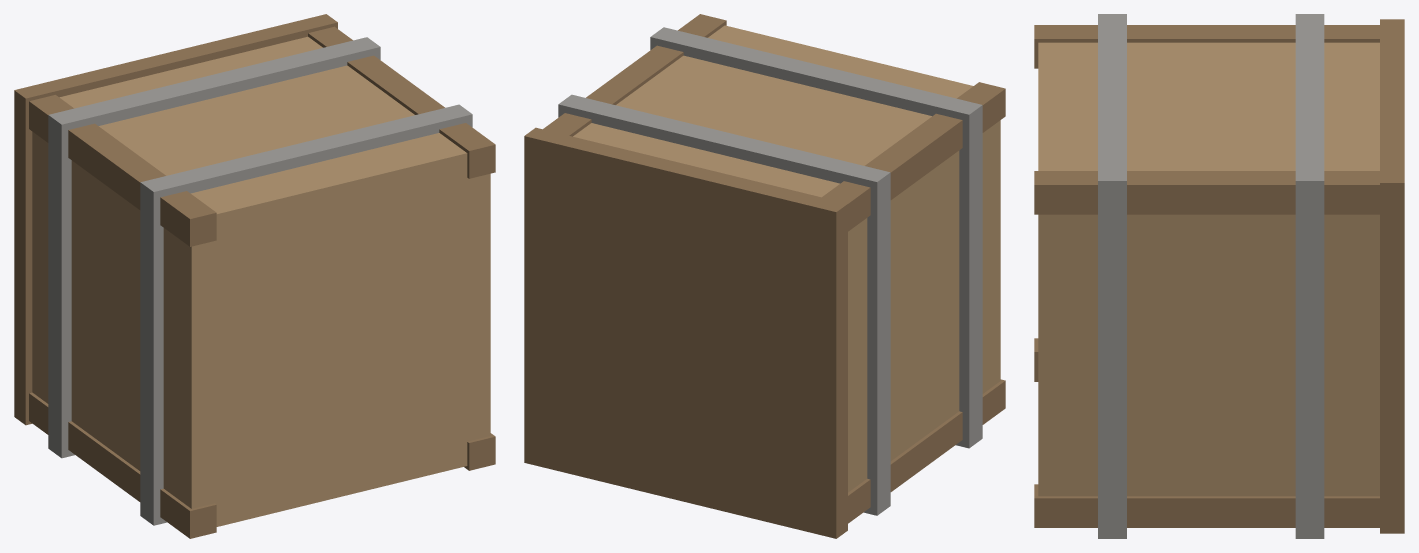
Rendered from cassa_legno.glb.
The picture shows the model from 3 angles, left to right: view 1: azimuth 30°, elevation 25°; view 2: azimuth 150°, elevation 25°; view 3: azimuth 270°, elevation 25°; orthographic projection. The views are drawn at different scales.
Parts seen in each view (by area): view 1: Body, MetalBand, MetalBand.001, LidPlank1, Corner.002, Corner, Corner.003, Corner.001; view 2: LidPlank1, Body, MetalBand, MetalBand.001, Corner.002, Corner, Corner.003; view 3: Body, MetalBand.001, MetalBand, LidPlank1, Corner.003, Corner.001, Corner.002.
Part boxes in pixels (left/top/right/bottom): Body: left=32, top=36, right=490, bottom=526; MetalBand: left=140, top=104, right=472, bottom=525; MetalBand.001: left=48, top=37, right=380, bottom=458; LidPlank1: left=14, top=14, right=337, bottom=425; Corner.002: left=29, top=95, right=216, bottom=246; Corner: left=29, top=392, right=216, bottom=538; Corner.003: left=308, top=26, right=495, bottom=178; Corner.001: left=464, top=433, right=495, bottom=470; LidPlank1: left=524, top=127, right=847, bottom=538; Body: left=573, top=25, right=1000, bottom=492; MetalBand: left=650, top=27, right=982, bottom=448; MetalBand.001: left=558, top=94, right=890, bottom=515; Corner.002: left=822, top=82, right=1005, bottom=231; Corner: left=848, top=379, right=1005, bottom=523; Corner.003: left=543, top=14, right=726, bottom=136; Body: left=1038, top=42, right=1379, bottom=496; MetalBand.001: left=1295, top=14, right=1324, bottom=538; MetalBand: left=1098, top=14, right=1126, bottom=538; LidPlank1: left=1380, top=19, right=1404, bottom=533; Corner.003: left=1034, top=171, right=1379, bottom=214; Corner.001: left=1034, top=484, right=1379, bottom=527; Corner.002: left=1034, top=25, right=1379, bottom=68.
Size of the model in its own units: 0.96 by 0.96 by 0.9.
